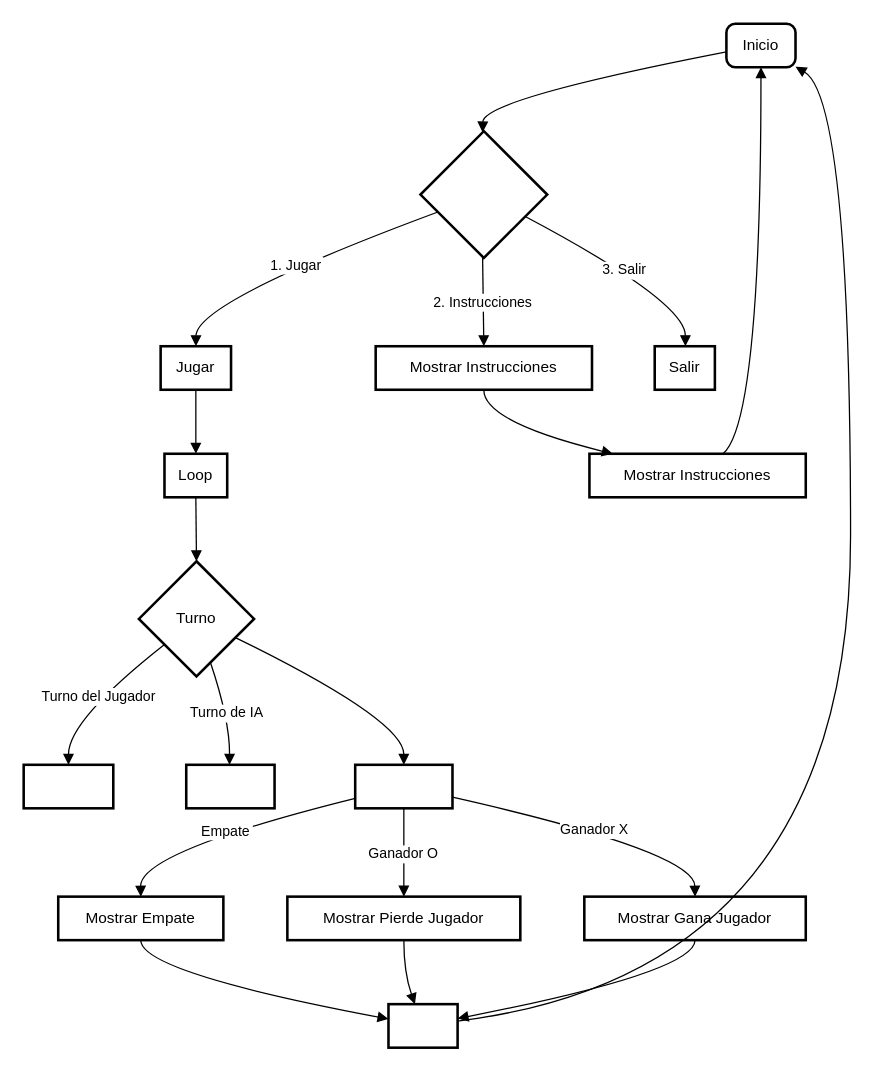
Some shapes in this 873 by 1070 pixel diagram are drawn without their labels. The shapes that lost their labels are listed below. From the top down, each one's centre as x and y in pixels, then its label:
At [483,194]: "Opción".
At [68,786]: "Intro Yo".
At [229,786]: "Intro IA".
At [403,786]: "Ganador".
At [422,1025]: "Fin".
